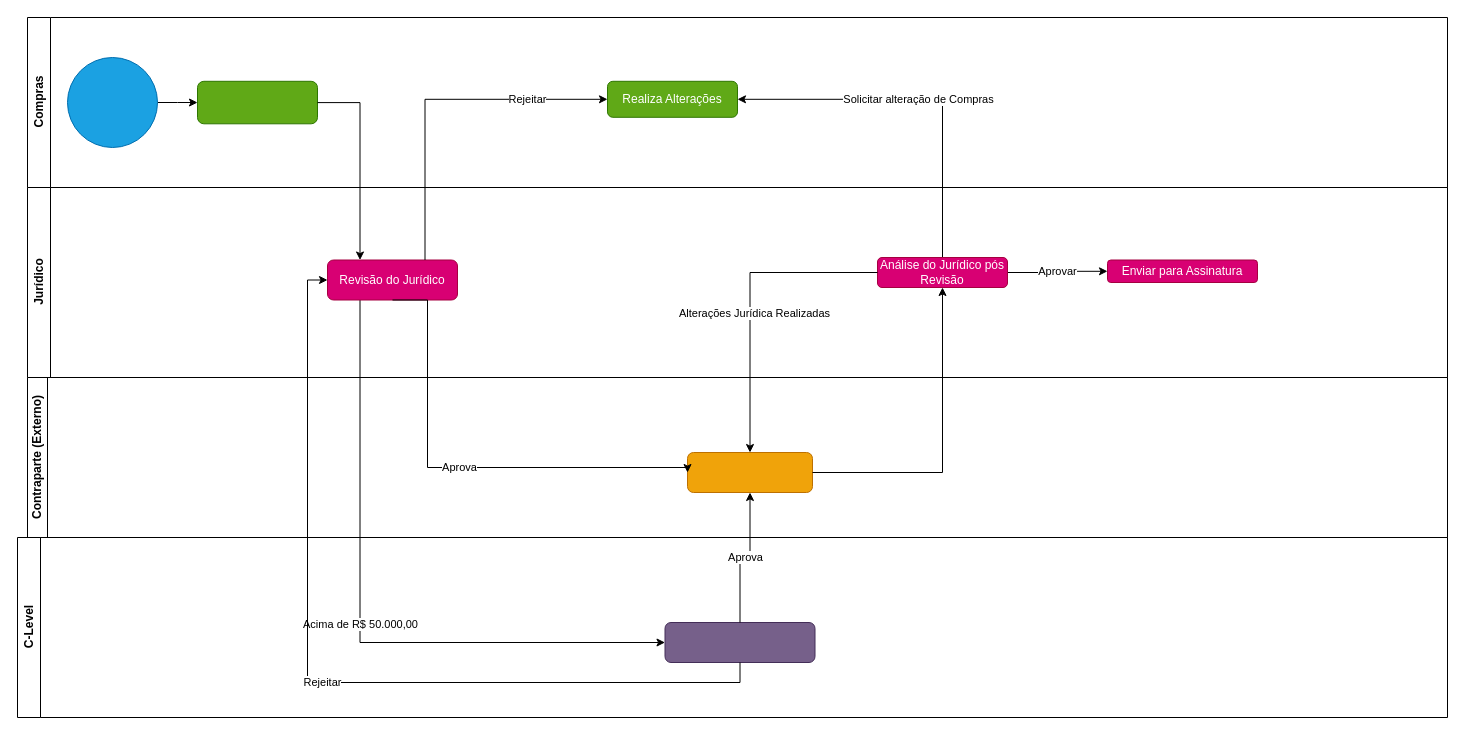
This 1465x735 diagram has some shape labels left out. The centre of each missing label's shape, as x and y in pixels:
Início: point (112, 102)
Preenche formulário: point (257, 102)
Revisão C-Level: point (739, 642)
Revisão Externa: point (749, 472)
